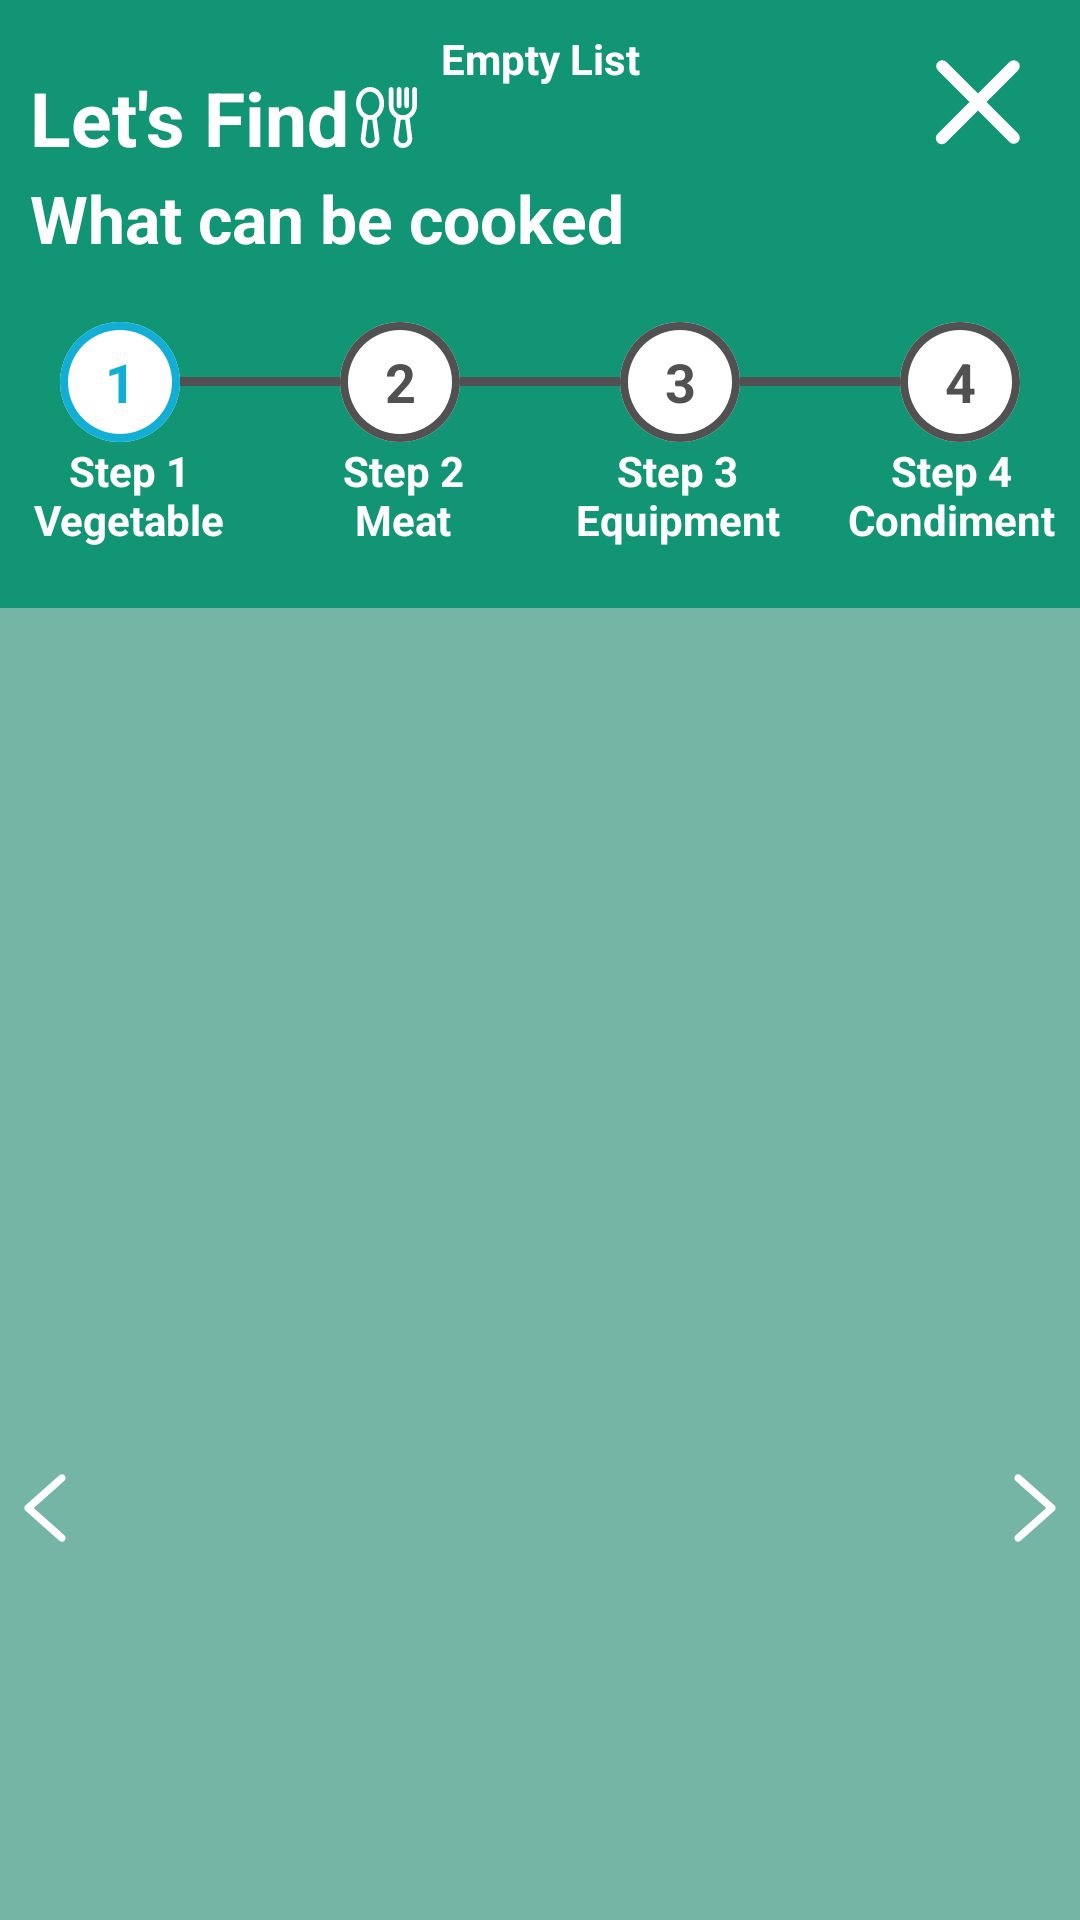

Screen size 1080 × 1920. Icon name, then its box in pixels as (x1, y1, x2, y2):
arrow left: (24, 1474, 66, 1542)
arrow right: (1014, 1474, 1056, 1542)
close: (935, 60, 1020, 145)
